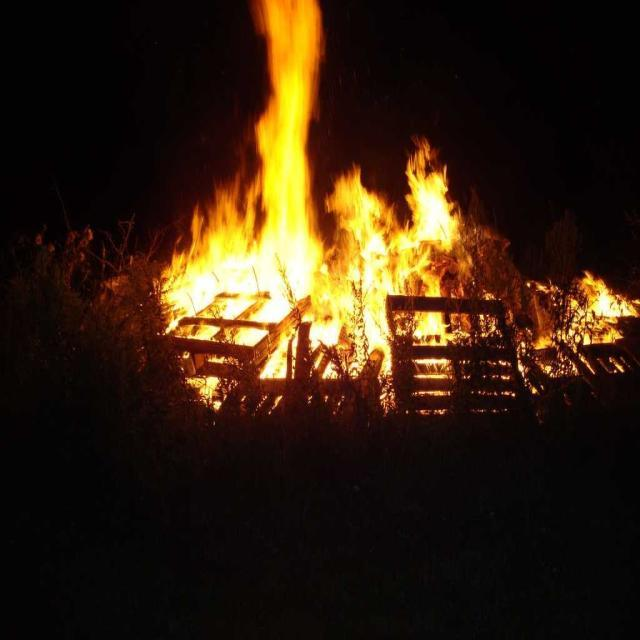Fire: (268, 7, 308, 286), (339, 196, 385, 328), (201, 250, 261, 296), (418, 178, 448, 247)
